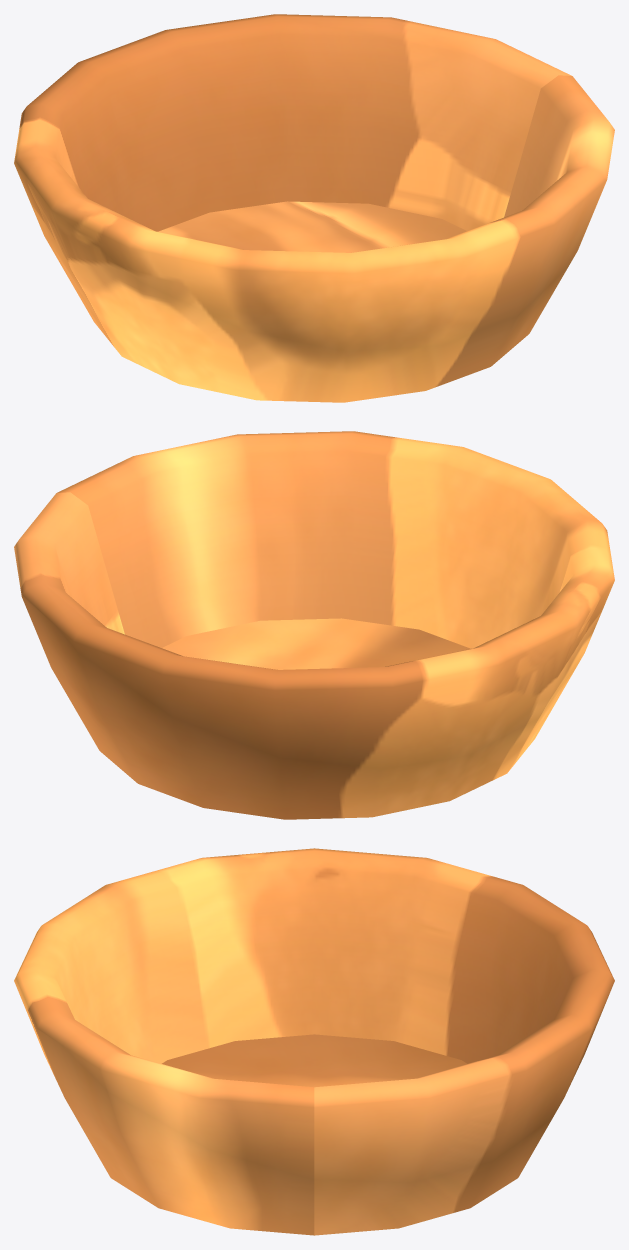
Rendered from SM_Stylized_Dish1.fbx.
The picture shows the model from 3 angles, top to bottom: view 1: azimuth 30°, elevation 25°; view 2: azimuth 150°, elevation 25°; view 3: azimuth 270°, elevation 25°; orthographic projection.
Visible parts, largest first — view 1: SM_Stylized_Dish1_LOD0; view 2: SM_Stylized_Dish1_LOD0; view 3: SM_Stylized_Dish1_LOD0.
Boxes of the visible parts, box(x1,y1,x2,y2) form: SM_Stylized_Dish1_LOD0: box(14, 14, 614, 402); SM_Stylized_Dish1_LOD0: box(14, 431, 614, 819); SM_Stylized_Dish1_LOD0: box(14, 848, 614, 1235).
Size of the model in its own units: 21.79 by 21.79 by 7.11.
